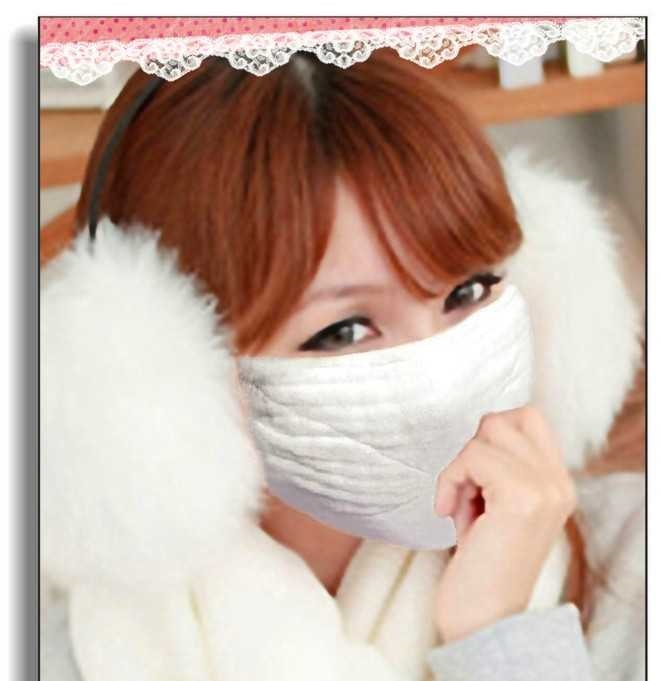face_mask: (231, 165, 521, 543)
